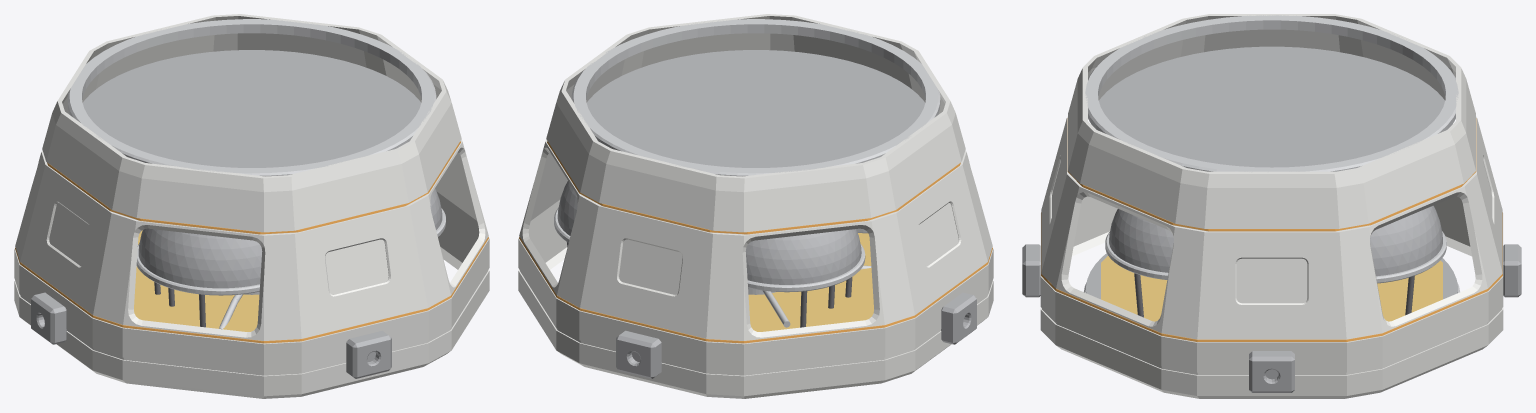
The model's file is ax_tank_02_lander_tank_section.glb.
3 views of the same model, side by side, from view 1: azimuth 30°, elevation 25°; view 2: azimuth 150°, elevation 25°; view 3: azimuth 270°, elevation 25° (orthographic). The views are drawn at different scales.
Visible parts, largest first — view 1: shell, decks, interface_rings, spherical_tanks, mli_floor, leg_hardpoints, orange_stripes, tank_girth_rings; view 2: shell, decks, interface_rings, spherical_tanks, mli_floor, leg_hardpoints, orange_stripes, tank_girth_rings, tank_struts; view 3: shell, decks, interface_rings, spherical_tanks, mli_floor, leg_hardpoints, orange_stripes, tank_girth_rings, tank_struts.
Boxes of the visible parts, bbox=[...] form: shell: bbox=[14, 14, 489, 398]; decks: bbox=[82, 50, 421, 167]; interface_rings: bbox=[67, 19, 436, 176]; spherical_tanks: bbox=[138, 188, 442, 288]; mli_floor: bbox=[134, 230, 259, 331]; leg_hardpoints: bbox=[31, 292, 391, 378]; orange_stripes: bbox=[15, 141, 488, 343]; tank_girth_rings: bbox=[136, 208, 445, 295]; shell: bbox=[518, 14, 993, 398]; decks: bbox=[586, 50, 925, 167]; interface_rings: bbox=[571, 19, 940, 176]; spherical_tanks: bbox=[557, 181, 861, 284]; mli_floor: bbox=[748, 233, 873, 331]; leg_hardpoints: bbox=[616, 292, 976, 378]; orange_stripes: bbox=[519, 141, 992, 343]; tank_girth_rings: bbox=[554, 207, 867, 292]; tank_struts: bbox=[567, 242, 852, 327]; shell: bbox=[1040, 14, 1503, 398]; decks: bbox=[1086, 46, 1457, 299]; interface_rings: bbox=[1084, 15, 1459, 292]; spherical_tanks: bbox=[1109, 205, 1442, 276]; mli_floor: bbox=[1101, 256, 1442, 321]; leg_hardpoints: bbox=[1022, 244, 1521, 392]; orange_stripes: bbox=[1041, 118, 1502, 341]; tank_girth_rings: bbox=[1105, 231, 1446, 283]; tank_struts: bbox=[1134, 273, 1414, 317].
Bounding box in the file's own units: 4.96 × 2.3 × 4.96.
